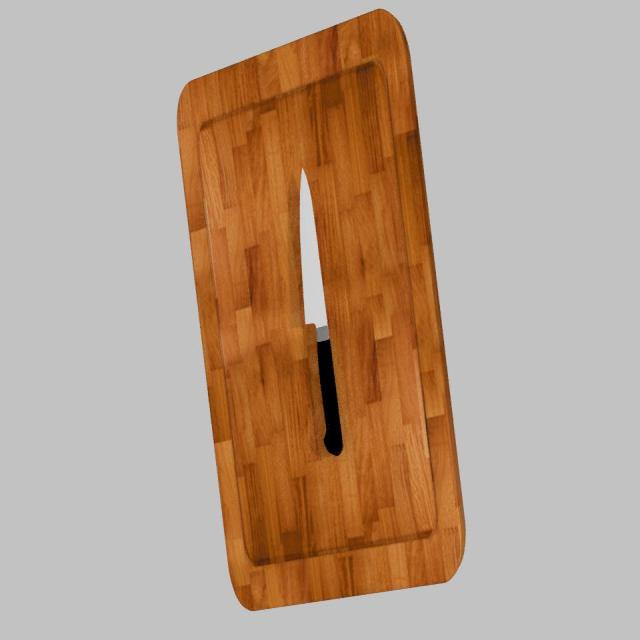knife: (317, 338, 343, 456)
